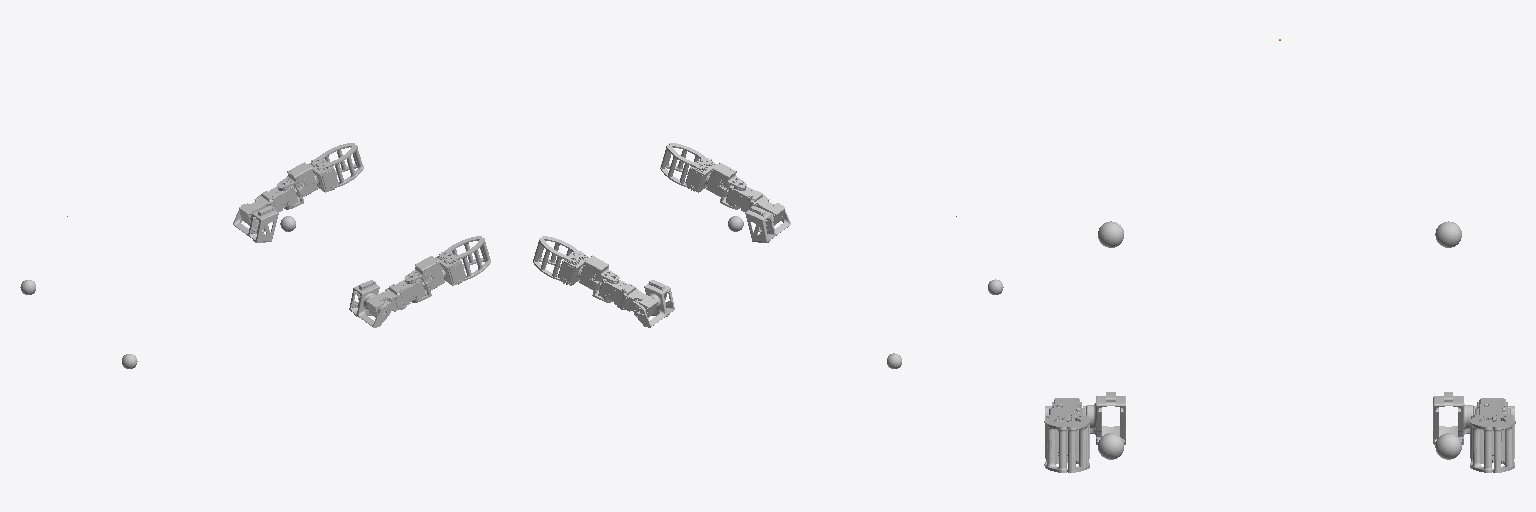
--- Facts derived from the render (not from the file) ---
3 views of the same robot in one strip: view 1: azimuth 30°, elevation 25°; view 2: azimuth 150°, elevation 25°; view 3: azimuth 270°, elevation 25° (orthographic).
Robot: go1 — 38 links, 37 joints (18 revolute, 19 fixed); root link base; default pose: all joints at 0 but 4 set to mid-range because 0 is outside their limits (1_FR_calf_joint = -1.85, 2_FL_calf_joint = -1.85, 3_RR_calf_joint = -1.85, 4_RL_calf_joint = -1.85).
Links seen in each view (by area): view 1: 2_FL_eef, 1_FR_eef, 1_FR_link_2, 2_FL_link_2, 2_FL_link_1, 1_FR_link_1, 1_FR_link_3, 2_FL_link_3; view 2: 1_FR_eef, 2_FL_eef, 2_FL_link_2, 1_FR_link_2, 1_FR_link_1, 2_FL_link_1, 2_FL_link_3, 1_FR_link_3; view 3: 1_FR_eef, 2_FL_eef, 2_FL_link_1, 1_FR_link_1, 1_FR_foot, 2_FL_foot, 4_RL_foot, 3_RR_foot.
Boxes of the visible links, x1=… form: 2_FL_eef: x1=307, y1=143, x2=363, y2=192; 1_FR_eef: x1=435, y1=236, x2=490, y2=285; 1_FR_link_2: x1=366, y1=277, x2=425, y2=317; 2_FL_link_2: x1=239, y1=184, x2=297, y2=225; 2_FL_link_1: x1=233, y1=204, x2=278, y2=242; 1_FR_link_1: x1=349, y1=280, x2=390, y2=327; 1_FR_link_3: x1=404, y1=256, x2=444, y2=302; 2_FL_link_3: x1=277, y1=162, x2=317, y2=209; 1_FR_eef: x1=660, y1=143, x2=716, y2=192; 2_FL_eef: x1=533, y1=236, x2=588, y2=285; 2_FL_link_2: x1=598, y1=277, x2=657, y2=317; 1_FR_link_2: x1=726, y1=184, x2=784, y2=225; 1_FR_link_1: x1=745, y1=203, x2=790, y2=242; 2_FL_link_1: x1=633, y1=280, x2=674, y2=327; 2_FL_link_3: x1=579, y1=255, x2=619, y2=302; 1_FR_link_3: x1=706, y1=162, x2=746, y2=209; 1_FR_eef: x1=1044, y1=415, x2=1089, y2=472; 2_FL_eef: x1=1470, y1=415, x2=1515, y2=472; 2_FL_link_1: x1=1433, y1=392, x2=1514, y2=444; 1_FR_link_1: x1=1045, y1=392, x2=1125, y2=444; 1_FR_foot: x1=1098, y1=433, x2=1123, y2=459; 2_FL_foot: x1=1435, y1=433, x2=1461, y2=459; 4_RL_foot: x1=1435, y1=221, x2=1461, y2=247; 3_RR_foot: x1=1098, y1=221, x2=1123, y2=247.
Bounding box of the posed robot: 0.5195 × 0.3537 × 0.1705 m (x, y, z).
Meshes: 13 distinct files referenced, 8 mesh visuals loaded (8 binary STL); not drawn: 13 (reference not matched to a file when rendering).

The robot description file, URDF, robot "go1":
<?xml version="1.0" ?>
<!-- =================================================================================== -->
<!-- |    This document was autogenerated by xacro from robot.xacro                    | -->
<!-- |    EDITING THIS FILE BY HAND IS NOT RECOMMENDED                                 | -->
<!-- =================================================================================== -->
<robot name="go1">
  <material name="black">
    <color rgba="0.0 0.0 0.0 1.0"/>
  </material>
  <material name="blue">
    <color rgba="0.0 0.0 0.8 1.0"/>
  </material>
  <material name="green">
    <color rgba="0.0 0.8 0.0 1.0"/>
  </material>
  <material name="grey">
    <color rgba="0.55 0.55 0.55 1.0"/>
  </material>
  <material name="silver">
    <color rgba="0.7 0.7 0.7 1"/>
  </material>
  <material name="orange">
    <color rgba="1.0 0.4235294117647059 0.0392156862745098 1.0"/>
  </material>
  <material name="brown">
    <color rgba="0.8705882352941177 0.8117647058823529 0.7647058823529411 1.0"/>
  </material>
  <material name="red">
    <color rgba="0.7 0.2 0.2 1.0"/>
  </material>
  <material name="white">
    <color rgba="1.0 1.0 1.0 1.0"/>
  </material>

  <material name="body_color">
    <color rgba="0.8 0.8 0.8 1.0"/>
  </material>
  <material name="hip_color">
    <color rgba="0.65 0.65 0.65 1.0"/>
  </material>
  <material name="thigh_color">
    <color rgba="0.5 0.5 0.5 1.0"/>
  </material>
  <material name="calf_color">
    <color rgba="0.5 0.5 0.5 1.0"/>
  </material>
  <material name="foot_color">
    <color rgba="0.8 0.8 0.8 1.0"/>
  </material>
  <material name="gripper_color">
    <color rgba="0.8 0.8 0.8 1.0"/>
  </material>

  <link name="base">
    <visual>
      <origin rpy="0 0 0" xyz="0 0 0"/>
      <geometry>
        <box size="0.001 0.001 0.001"/>
      </geometry>
    </visual>
  </link>
  <joint name="floating_base" type="fixed">
    <origin rpy="0 0 0" xyz="0 0 0"/>
    <parent link="base"/>
    <child link="trunk"/>
  </joint>
  <link name="trunk">
    <visual>
      <origin rpy="0 0 0" xyz="0 0 0"/>
      <geometry>
        <mesh filename="../meshes/trunk.stl" scale="1 1 1"/>
      </geometry>
      <material name="body_color"/>
    </visual>
    <collision>
      <origin rpy="0 0 0" xyz="0 0 0"/>
      <geometry>
        <box size="0.3762 0.0935 0.114"/>
      </geometry>
    </collision>
    <inertial>
      <origin rpy="0 0 0" xyz="0.0223 0.002 -0.0005"/>
      <mass value="5.204"/>
      <inertia ixx="0.0168128557" ixy="-0.0002296769" ixz="-0.0002945293" iyy="0.063009565" iyz="-4.18731e-05" izz="0.0716547275"/>
    </inertial>
  </link>
  
  <joint name="1_FR_hip_joint" type="revolute">
    <origin rpy="0 0 0" xyz="0.1881 -0.04675 0"/>
    <parent link="trunk"/>
    <child link="1_FR_hip"/>
    <axis xyz="1 0 0"/>
    <dynamics damping="0.0" friction="0.0"/>
    <limit effort="23.7" lower="-0.863" upper="0.863" velocity="30.1"/>
  </joint>
  <joint name="1_FR_hip_rotor_joint" type="fixed">
    <origin rpy="0 0 0" xyz="0.11215 -0.04675 0"/>
    <parent link="trunk"/>
    <child link="1_FR_hip_rotor"/>
  </joint>
  <link name="1_FR_hip">
    <visual>
      <origin rpy="3.141592653589793 0 0" xyz="0 0 0"/>
      <geometry>
        <mesh filename="../meshes/hip.stl" scale="1 1 1"/>
      </geometry>
      <material name="hip_color"/>
    </visual>
    <collision>
      <origin rpy="1.5707963267948966 0 0" xyz="0 -0.05 0"/>
      <geometry>
        <cylinder length="0.01" radius="0.046"/>
      </geometry>
    </collision>
    <inertial>
      <origin rpy="0 0 0" xyz="-0.005657 0.008752 -0.000102"/>
      <mass value="0.591"/>
      <inertia ixx="0.000334008405" ixy="1.0826066e-05" ixz="1.290732e-06" iyy="0.000619101213" iyz="-1.643194e-06" izz="0.00040057614"/>
    </inertial>
  </link>
  <link name="1_FR_hip_rotor">
    <!-- <collision>
      <origin rpy="0 1.5707963267948966 0" xyz="0 0 0"/>
      <geometry>
        <cylinder length="0.02" radius="0.035"/>
      </geometry>
    </collision> -->
    <inertial>
      <origin rpy="0 0 0" xyz="0.0 0.0 0.0"/>
      <mass value="0.089"/>
      <inertia ixx="0.000111842" ixy="0.0" ixz="0.0" iyy="5.9647e-05" iyz="0.0" izz="5.9647e-05"/>
    </inertial>
  </link>
  <joint name="1_FR_thigh_joint" type="revolute">
    <origin rpy="0 0 0" xyz="0 -0.08 0"/>
    <parent link="1_FR_hip"/>
    <child link="1_FR_thigh"/>
    <axis xyz="0 1 0"/>
    <dynamics damping="0.0" friction="0.0"/>
    <limit effort="23.7" lower="-0.686" upper="4.501" velocity="30.1"/>
  </joint>
  <joint name="1_FR_thigh_rotor_joint" type="fixed">
    <origin rpy="0 0 0" xyz="0.0 0.00015 0"/>
    <parent link="1_FR_hip"/>
    <child link="1_FR_thigh_rotor"/>
  </joint>
  <link name="1_FR_thigh">
    <visual>
      <origin rpy="0 0 0" xyz="0 0 0"/>
      <geometry>
        <mesh filename="../meshes/thigh_mirror.stl" scale="1 1 1"/>
      </geometry>
      <material name="thigh_color"/>
    </visual>
    <collision>
      <origin rpy="0 1.5707963267948966 0" xyz="0 0 -0.1065"/>
      <geometry>
        <box size="0.213 0.0245 0.034"/>
      </geometry>
    </collision>
    <inertial>
      <origin rpy="0 0 0" xyz="-0.003342 0.018054 -0.033451"/>
      <mass value="0.92"/>
      <inertia ixx="0.004431760472" ixy="-5.7496807e-05" ixz="-0.000218457134" iyy="0.004485671726" iyz="-0.000572001265" izz="0.000740309489"/>
    </inertial>
  </link>
  <link name="1_FR_thigh_rotor">
    <!-- <collision>
      <origin rpy="1.5707963267948966 0 0" xyz="0 0 0"/>
      <geometry>
        <cylinder length="0.02" radius="0.035"/>
      </geometry>
    </collision> -->
    <inertial>
      <origin rpy="0 0 0" xyz="0.0 0.0 0.0"/>
      <mass value="0.089"/>
      <inertia ixx="5.9647e-05" ixy="0.0" ixz="0.0" iyy="0.000111842" iyz="0.0" izz="5.9647e-05"/>
    </inertial>
  </link>
  <joint name="1_FR_calf_joint" type="revolute">
    <origin rpy="0 0 0" xyz="0 0 -0.213"/>
    <parent link="1_FR_thigh"/>
    <child link="1_FR_calf"/>
    <axis xyz="0 1 0"/>
    <dynamics damping="0.0" friction="0.0"/>
    <limit effort="35.55" lower="-2.818" upper="-0.888" velocity="20.06"/>
  </joint>
  <joint name="1_FR_calf_rotor_joint" type="fixed">
    <origin rpy="0 0 0" xyz="0.0 0.03235 0"/>
    <parent link="1_FR_thigh"/>
    <child link="1_FR_calf_rotor"/>
  </joint>
  <link name="1_FR_calf">
    <visual>
      <origin rpy="0 0 0" xyz="0 0 0"/>
      <geometry>
        <mesh filename="../meshes/calf.stl" scale="1 1 1"/>
      </geometry>
      <material name="calf_color"/>
    </visual>
    <collision>
      <origin rpy="0 1.5707963267948966 0" xyz="0 0 -0.1065"/>
      <geometry>
        <box size="0.213 0.016 0.016"/>
      </geometry>
    </collision>
    <inertial>
      <origin rpy="0 0 0" xyz="0.006197 0.001408 -0.116695"/>
      <mass value="0.135862"/>
      <inertia ixx="0.001088793059" ixy="-2.55679e-07" ixz="7.117814e-06" iyy="0.001100428748" iyz="2.077264e-06" izz="2.4787446e-05"/>
    </inertial>
  </link>
  <link name="1_FR_calf_rotor">
    <!-- <collision>
      <origin rpy="1.5707963267948966 0 0" xyz="0 0 0"/>
      <geometry>
        <cylinder length="0.02" radius="0.035"/>
      </geometry>
    </collision> -->
    <inertial>
      <origin rpy="0 0 0" xyz="0.0 0.0 0.0"/>
      <mass value="0.089"/>
      <inertia ixx="5.9647e-05" ixy="0.0" ixz="0.0" iyy="0.000111842" iyz="0.0" izz="5.9647e-05"/>
    </inertial>
  </link>
  <joint name="1_FR_foot_fixed" type="fixed" dont_collapse="true">
    <origin rpy="0 0 0" xyz="0 0 -0.213"/>
    <parent link="1_FR_calf"/>
    <child link="1_FR_foot"/>
  </joint>
  <link name="1_FR_foot">
    <visual>
      <origin rpy="0 0 0" xyz="0 0 0"/>
      <geometry>
        <sphere radius="0.01"/>
      </geometry>
      <material name="foot_color"/>
    </visual>
    <collision>
      <origin rpy="0 0 0" xyz="0 0 0"/>
      <geometry>
        <sphere radius="0.02"/>
      </geometry>
    </collision>
    <inertial>
      <mass value="0.06"/>
      <inertia ixx="9.600000000000001e-06" ixy="0.0" ixz="0.0" iyy="9.600000000000001e-06" iyz="0.0" izz="9.600000000000001e-06"/>
    </inertial>
  </link>



  <link
    name="1_FR_link_1">
    <inertial>
      <origin
        xyz="-0.00219773126121644 0.0243160464563324 0.00397191022683929"
        rpy="0 0 0" />
      <mass
        value="0.00863416475105106" />
      <inertia
        ixx="2.1722842345942E-06"
        ixy="-2.15046061302735E-07"
        ixz="6.45826726963068E-07"
        iyy="2.00975373063071E-06"
        iyz="2.41958602625338E-07"
        izz="2.47207531933185E-06" />
    </inertial>
    <visual>
      <origin
        xyz="0 0 0"
        rpy="0 0 0" />
      <geometry>
        <mesh
          filename="../meshes/1_FR_link_1.STL" />
      </geometry>
      <material name="gripper_color"/>
    </visual>
    <collision>
      <origin
        xyz="0 0 0"
        rpy="0 0 0" />
      <geometry>
        <mesh
          filename="../meshes/1_FR_link_1.STL" />
      </geometry>
    </collision>
  </link>
  <joint
    name="1_FR_joint_fixed"
    type="fixed">
    <origin
      xyz="0.017662 -0.033 -0.182"
      rpy="0 0 0" />
    <parent
      link="1_FR_calf" />
    <child
      link="1_FR_link_1" />
    <axis
      xyz="0 0 0" />
  </joint>
  <link
    name="1_FR_link_2">
    <inertial>
      <origin
        xyz="9.83364314332928E-05 9.83364314332755E-05 -0.026549999586773"
        rpy="0 0 0" />
      <mass
        value="0.0344083946296199" />
      <inertia
        ixx="3.66188334529279E-06"
        ixy="1.68068961449228E-10"
        ixz="1.28134785077151E-09"
        iyy="3.6618838920329E-06"
        iyz="-1.2813478507716E-09"
        izz="1.70194500825612E-06" />
    </inertial>
    <visual>
      <origin
        xyz="0 0 0"
        rpy="0 0 0" />
      <geometry>
        <mesh
          filename="../meshes/1_FR_link_2.STL" />
      </geometry>
      <material name="gripper_color"/>
    </visual>
    <collision>
      <origin
        xyz="0 0 0"
        rpy="0 0 0" />
      <geometry>
        <mesh
          filename="../meshes/1_FR_link_2.STL" />
      </geometry>
    </collision>
  </link>
  <joint
    name="1_FR_joint_1"
    type="revolute">
    <origin
      xyz="0 0 0"
      rpy="0 0 0" />
    <parent
      link="1_FR_link_1" />
    <child
      link="1_FR_link_2" />
    <axis
      xyz="0 1 0" />
    <limit
      lower="-3.19"
      upper="1.74"
      effort="1"
      velocity="1" />
  </joint>
  <link
    name="1_FR_link_3">
    <inertial>
      <origin
        xyz="0.0064018098359042 -3.90017676212689E-06 -0.0255809285503741"
        rpy="0 0 0" />
      <mass
        value="0.0183834737966981" />
      <inertia
        ixx="8.82753845612401E-07"
        ixy="1.37887213674392E-09"
        ixz="3.41133990128341E-08"
        iyy="2.36367097748995E-06"
        iyz="-8.40728593179785E-11"
        izz="2.56460057046731E-06" />
    </inertial>
    <visual>
      <origin
        xyz="0 0 0"
        rpy="0 0 0" />
      <geometry>
        <mesh
          filename="../meshes/1_FR_link_3.STL" />
      </geometry>
      <material name="gripper_color"/>
    </visual>
    <collision>
      <origin
        xyz="0 0 0"
        rpy="0 0 0" />
      <geometry>
        <mesh
          filename="../meshes/1_FR_link_3.STL" />
      </geometry>
    </collision>
  </link>
  <joint
    name="1_FR_joint_2"
    type="revolute">
    <origin
      xyz="0 0 -0.0531"
      rpy="0 0 0" />
    <parent
      link="1_FR_link_2" />
    <child
      link="1_FR_link_3" />
    <axis
      xyz="1 0 0" />
    <limit
      lower="-2.4"
      upper="0.6"
      effort="1"
      velocity="1" />
  </joint>
  <link
    name="1_FR_eef">
    <inertial>
      <origin
        xyz="0.000104882475929782 0.000138555138779549 0.023929014785628"
        rpy="0 0 0" />
      <mass
        value="0.0278259377601935" />
      <inertia
        ixx="4.89357650784539E-06"
        ixy="-1.02471635077391E-09"
        ixz="-1.81801095874302E-07"
        iyy="4.41355535993267E-06"
        iyz="7.72057020217287E-09"
        izz="3.34104296413481E-06" />
    </inertial>
    <visual>
      <origin
        xyz="0 0 0"
        rpy="0 0 0" />
      <geometry>
        <mesh
          filename="../meshes/1_FR_eef.STL" />
      </geometry>
      <material name="gripper_color"/>
    </visual>
    <collision>
      <origin
        xyz="0 0 0"
        rpy="0 0 0" />
      <geometry>
        <mesh
          filename="../meshes/1_FR_eef.STL" />
      </geometry>
    </collision>
  </link>
  <joint
    name="1_FR_joint_3"
    type="revolute">
    <origin
      xyz="0 0 -0.086"
      rpy="0 0 0" />
    <parent
      link="1_FR_link_3" />
    <child
      link="1_FR_eef" />
    <axis
      xyz="0 0 1" />
    <limit
      lower="-3.15"
      upper="3.15"
      effort="1"
      velocity="1" />
  </joint>







  <joint name="2_FL_hip_joint" type="revolute">
    <origin rpy="0 0 0" xyz="0.1881 0.04675 0"/>
    <parent link="trunk"/>
    <child link="2_FL_hip"/>
    <axis xyz="1 0 0"/>
    <dynamics damping="0.0" friction="0.0"/>
    <limit effort="23.7" lower="-0.863" upper="0.863" velocity="30.1"/>
  </joint>
  <joint name="2_FL_hip_rotor_joint" type="fixed">`
    <origin rpy="0 0 0" xyz="0.11215 0.04675 0"/>
    <parent link="trunk"/>
    <child link="2_FL_hip_rotor"/>
  </joint>
  <link name="2_FL_hip">
    <visual>
      <origin rpy="0 0 0" xyz="0 0 0"/>
      <geometry>
        <mesh filename="../meshes/hip.stl" scale="1 1 1"/>
      </geometry>
      <material name="hip_color"/>
    </visual>
    <collision>
      <origin rpy="1.5707963267948966 0 0" xyz="0 0.05 0"/>
      <geometry>
        <cylinder length="0.01" radius="0.046"/>
      </geometry>
    </collision>
    <inertial>
      <origin rpy="0 0 0" xyz="-0.005657 -0.008752 -0.000102"/>
      <mass value="0.591"/>
      <inertia ixx="0.000334008405" ixy="-1.0826066e-05" ixz="1.290732e-06" iyy="0.000619101213" iyz="1.643194e-06" izz="0.00040057614"/>
    </inertial>
  </link>
  <link name="2_FL_hip_rotor">
    <!-- <collision>
      <origin rpy="0 1.5707963267948966 0" xyz="0 0 0"/>
      <geometry>
        <cylinder length="0.02" radius="0.035"/>
      </geometry>
    </collision> -->
    <inertial>
      <origin rpy="0 0 0" xyz="0.0 0.0 0.0"/>
      <mass value="0.089"/>
      <inertia ixx="0.000111842" ixy="0.0" ixz="0.0" iyy="5.9647e-05" iyz="0.0" izz="5.9647e-05"/>
    </inertial>
  </link>
  <joint name="2_FL_thigh_joint" type="revolute">
    <origin rpy="0 0 0" xyz="0 0.08 0"/>
    <parent link="2_FL_hip"/>
    <child link="2_FL_thigh"/>
    <axis xyz="0 1 0"/>
    <dynamics damping="0.0" friction="0.0"/>
    <limit effort="23.7" lower="-0.686" upper="4.501" velocity="30.1"/>
  </joint>
  <joint name="2_FL_thigh_rotor_joint" type="fixed">
    <origin rpy="0 0 0" xyz="0.0 -0.00015 0"/>
    <parent link="2_FL_hip"/>
    <child link="2_FL_thigh_rotor"/>
  </joint>
  <link name="2_FL_thigh">
    <visual>
      <origin rpy="0 0 0" xyz="0 0 0"/>
      <geometry>
        <mesh filename="../meshes/thigh.stl" scale="1 1 1"/>
      </geometry>
      <material name="thigh_color"/>
    </visual>
    <collision>
      <origin rpy="0 1.5707963267948966 0" xyz="0 0 -0.1065"/>
      <geometry>
        <box size="0.213 0.0245 0.034"/>
      </geometry>
    </collision>
    <inertial>
      <origin rpy="0 0 0" xyz="-0.003342 -0.018054 -0.033451"/>
      <mass value="0.92"/>
      <inertia ixx="0.004431760472" ixy="5.7496807e-05" ixz="-0.000218457134" iyy="0.004485671726" iyz="0.000572001265" izz="0.000740309489"/>
    </inertial>
  </link>
  <link name="2_FL_thigh_rotor">
    <!-- <collision>
      <origin rpy="1.5707963267948966 0 0" xyz="0 0 0"/>
      <geometry>
        <cylinder length="0.02" radius="0.035"/>
      </geometry>
    </collision> -->
    <inertial>
      <origin rpy="0 0 0" xyz="0.0 0.0 0.0"/>
      <mass value="0.089"/>
      <inertia ixx="5.9647e-05" ixy="0.0" ixz="0.0" iyy="0.000111842" iyz="0.0" izz="5.9647e-05"/>
    </inertial>
  </link>
  <joint name="2_FL_calf_joint" type="revolute">
    <origin rpy="0 0 0" xyz="0 0 -0.213"/>
    <parent link="2_FL_thigh"/>
    <child link="2_FL_calf"/>
    <axis xyz="0 1 0"/>
    <dynamics damping="0.0" friction="0.0"/>
    <limit effort="35.55" lower="-2.818" upper="-0.888" velocity="20.06"/>
  </joint>
  <joint name="2_FL_calf_rotor_joint" type="fixed">
    <origin rpy="0 0 0" xyz="0.0 -0.03235 0"/>
    <parent link="2_FL_thigh"/>
    <child link="2_FL_calf_rotor"/>
  </joint>
  <link name="2_FL_calf">
    <visual>
      <origin rpy="0 0 0" xyz="0 0 0"/>
      <geometry>
        <mesh filename="../meshes/calf.stl" scale="1 1 1"/>
      </geometry>
      <material name="calf_color"/>
    </visual>
    <collision>
      <origin rpy="0 1.5707963267948966 0" xyz="0 0 -0.1065"/>
      <geometry>
        <box size="0.213 0.016 0.016"/>
      </geometry>
    </collision>
    <inertial>
      <origin rpy="0 0 0" xyz="0.006197 0.001408 -0.116695"/>
      <mass value="0.135862"/>
      <inertia ixx="0.001088793059" ixy="-2.55679e-07" ixz="7.117814e-06" iyy="0.001100428748" iyz="2.077264e-06" izz="2.4787446e-05"/>
    </inertial>
  </link>
  <link name="2_FL_calf_rotor">
    <!-- <collision>
      <origin rpy="1.5707963267948966 0 0" xyz="0 0 0"/>
      <geometry>
        <cylinder length="0.02" radius="0.035"/>
      </geometry>
    </collision> -->
    <inertial>
      <origin rpy="0 0 0" xyz="0.0 0.0 0.0"/>
      <mass value="0.089"/>
      <inertia ixx="5.9647e-05" ixy="0.0" ixz="0.0" iyy="0.000111842" iyz="0.0" izz="5.9647e-05"/>
    </inertial>
  </link>
  <joint name="2_FL_foot_fixed" type="fixed" dont_collapse="true">
    <origin rpy="0 0 0" xyz="0 0 -0.213"/>
    <parent link="2_FL_calf"/>
    <child link="2_FL_foot"/>
  </joint>
  <link name="2_FL_foot">
    <visual>
      <origin rpy="0 0 0" xyz="0 0 0"/>
      <geometry>
        <sphere radius="0.01"/>
      </geometry>
      <material name="foot_color"/>
    </visual>
    <collision>
      <origin rpy="0 0 0" xyz="0 0 0"/>
      <geometry>
        <sphere radius="0.02"/>
      </geometry>
    </collision>
    <inertial>
      <mass value="0.06"/>
      <inertia ixx="9.600000000000001e-06" ixy="0.0" ixz="0.0" iyy="9.600000000000001e-06" iyz="0.0" izz="9.600000000000001e-06"/>
    </inertial>
  </link>
  



  <link
    name="2_FL_link_1">
    <inertial>
      <origin
        xyz="-0.00219775969885004 -0.0243160967977738 0.00397188663301826"
        rpy="0 0 0" />
      <mass
        value="0.0086341682803232" />
      <inertia
        ixx="2.17229556670787E-06"
        ixy="2.15048586239943E-07"
        ixz="6.45827134180044E-07"
        iyy="2.00976173700504E-06"
        iyz="-2.41962868208989E-07"
        izz="2.47208104511084E-06" />
    </inertial>
    <visual>
      <origin
        xyz="0 0 0"
        rpy="0 0 0" />
      <geometry>
        <mesh
          filename="../meshes/2_FL_link_1.STL" />
      </geometry>
      <material name="gripper_color"/>
    </visual>
    <collision>
      <origin
        xyz="0 0 0"
        rpy="0 0 0" />
      <geometry>
        <mesh
          filename="../meshes/2_FL_link_1.STL" />
      </geometry>
    </collision>
  </link>
  <joint
    name="2_FL_joint_fixed"
    type="fixed">
    <origin
      xyz="0.017662 0.033 -0.182"
      rpy="0 0 0" />
    <parent
      link="2_FL_calf" />
    <child
      link="2_FL_link_1" />
    <axis
      xyz="0 0 0" />
  </joint>
  <link
    name="2_FL_link_2">
    <inertial>
      <origin
        xyz="0.000102501835334282 -0.000102501835334216 -0.026549999586773"
        rpy="0 0 0" />
      <mass
        value="0.0344083946296199" />
      <inertia
        ixx="3.66188334529278E-06"
        ixy="1.68068961449388E-10"
        ixz="4.03851008370406E-09"
        iyy="3.6618838920329E-06"
        iyz="4.03851008370605E-09"
        izz="1.70194500825612E-06" />
    </inertial>
    <visual>
      <origin
        xyz="0 0 0"
        rpy="0 0 0" />
      <geometry>
        <mesh
          filename="../meshes/2_FL_link_2.STL" />
      </geometry>
      <material name="gripper_color"/>
    </visual>
    <collision>
      <origin
        xyz="0 0 0"
        rpy="0 0 0" />
      <geometry>
        <mesh
          filename="../meshes/2_FL_link_2.STL" />
      </geometry>
    </collision>
  </link>
  <joint
    name="2_FL_joint_1"
    type="revolute">
    <origin
      xyz="0 0 0"
      rpy="0 0 0" />
    <parent
      link="2_FL_link_1" />
    <child
      link="2_FL_link_2" />
    <axis
      xyz="0 1 0" />
    <limit
      lower="-3.19"
      upper="1.74"
      effort="1"
      velocity="1" />
  </joint>
  <link
    name="2_FL_link_3">
    <inertial>
      <origin
        xyz="0.00640180983590409 -3.90017676213383E-06 -0.0255809285503741"
        rpy="0 0 0" />
      <mass
        value="0.0183834737966981" />
      <inertia
        ixx="8.827538456124E-07"
        ixy="1.37887213674302E-09"
        ixz="3.41133990128335E-08"
        iyy="2.36367097748996E-06"
        iyz="-8.40728593177935E-11"
        izz="2.56460057046732E-06" />
    </inertial>
    <visual>
      <origin
        xyz="0 0 0"
        rpy="0 0 0" />
      <geometry>
        <mesh
          filename="../meshes/2_FL_link_3.STL" />
      </geometry>
      <material name="gripper_color"/>
    </visual>
    <collision>
      <origin
        xyz="0 0 0"
        rpy="0 0 0" />
      <geometry>
        <mesh
          filename="../meshes/2_FL_link_3.STL" />
      </geometry>
    </collision>
  </link>
  <joint
    name="2_FL_joint_2"
    type="revolute">
    <origin
      xyz="0 0 -0.0531"
      rpy="0 0 0" />
    <parent
      link="2_FL_link_2" />
    <child
      link="2_FL_link_3" />
    <axis
      xyz="1 0 0" />
    <limit
      lower="-0.6"
      upper="2.4"
      effort="1"
      velocity="1" />
  </joint>
  <link
    name="2_FL_eef">
    <inertial>
      <origin
        xyz="0.00010497138024106 0.000138672538128368 0.0239145474490836"
        rpy="0 0 0" />
      <mass
        value="0.0278023758627792" />
      <inertia
        ixx="4.89310283023738E-06"
        ixy="-1.02469769104025E-09"
        ixz="-1.81800973831625E-07"
        iyy="4.41308154517087E-06"
        iyz="7.72058499079955E-09"
        izz="3.34011139187202E-06" />
    </inertial>
    <visual>
      <origin
        xyz="0 0 0"
        rpy="0 0 0" />
      <geometry>
        <mesh
          filename="../meshes/2_FL_eef.STL" />
      </geometry>
      <material name="gripper_color"/>
    </visual>
    <collision>
      <origin
        xyz="0 0 0"
        rpy="0 0 0" />
      <geometry>
        <mesh
          filename="../meshes/2_FL_eef.STL" />
      </geometry>
    </collision>
  </link>
  <joint
    name="2_FL_joint_3"
    type="revolute">
    <origin
      xyz="0 0 -0.086"
      rpy="0 0 0" />
    <parent
      link="2_FL_link_3" />
    <child
      link="2_FL_eef" />
    <axis
      xyz="0 0 1" />
    <limit
      lower="-3.15"
      upper="3.15"
      effort="1"
      velocity="1" />
  </joint>




  <joint name="3_RR_hip_joint" type="revolute">
    <origin rpy="0 0 0" xyz="-0.1881 -0.04675 0"/>
    <parent link="trunk"/>
    <child link="3_RR_hip"/>
    <axis xyz="1 0 0"/>
    <dynamics damping="0.0" friction="0.0"/>
    <limit effort="23.7" lower="-0.863" upper="0.863" velocity="30.1"/>
  </joint>
  <joint name="3_RR_hip_rotor_joint" type="fixed">
    <origin rpy="0 0 0" xyz="-0.11215 -0.04675 0"/>
    <parent link="trunk"/>
    <child link="3_RR_hip_rotor"/>
  </joint>
  <link name="3_RR_hip">
    <visual>
      <origin rpy="3.141592653589793 3.141592653589793 0" xyz="0 0 0"/>
      <geometry>
        <mesh filename="../meshes/hip.stl" scale="1 1 1"/>
      </geometry>
      <material name="hip_color"/>
    </visual>
    <collision>
      <origin rpy="1.5707963267948966 0 0" xyz="0 -0.08 0"/>
      <geometry>
        <cylinder length="0.04" radius="0.046"/>
      </geometry>
    </collision>
    <inertial>
      <origin rpy="0 0 0" xyz="0.005657 0.008752 -0.000102"/>
      <mass value="0.591"/>
      <inertia ixx="0.000334008405" ixy="-1.0826066e-05" ixz="-1.290732e-06" iyy="0.000619101213" iyz="-1.643194e-06" izz="0.00040057614"/>
    </inertial>
  </link>
  <link name="3_RR_hip_rotor">
    <!-- <collision>
      <origin rpy="0 1.5707963267948966 0" xyz="0 0 0"/>
      <geometry>
        <cylinder length="0.02" radius="0.035"/>
      </geometry>
    </collision> -->
    <inertial>
      <origin rpy="0 0 0" xyz="0.0 0.0 0.0"/>
      <mass value="0.089"/>
      <inertia ixx="0.000111842" ixy="0.0" ixz="0.0" iyy="5.9647e-05" iyz="0.0" izz="5.9647e-05"/>
    </inertial>
  </link>
  <joint name="3_RR_thigh_joint" type="revolute">
    <origin rpy="0 0 0" xyz="0 -0.08 0"/>
    <parent link="3_RR_hip"/>
    <child link="3_RR_thigh"/>
    <axis xyz="0 1 0"/>
    <dynamics damping="0.0" friction="0.0"/>
    <limit effort="23.7" lower="-0.686" upper="4.501" velocity="30.1"/>
  </joint>
  <joint name="3_RR_thigh_rotor_joint" type="fixed">
    <origin rpy="0 0 0" xyz="0.0 0.00015 0"/>
    <parent link="3_RR_hip"/>
    <child link="3_RR_thigh_rotor"/>
  </joint>
  <link name="3_RR_thigh">
    <visual>
      <origin rpy="0 0 0" xyz="0 0 0"/>
      <geometry>
        <mesh filename="../meshes/thigh_mirror.stl" scale="1 1 1"/>
      </geometry>
      <material name="thigh_color"/>
    </visual>
    <collision>
      <origin rpy="0 1.5707963267948966 0" xyz="0 0 -0.1065"/>
      <geometry>
        <box size="0.213 0.0245 0.034"/>
      </geometry>
    </collision>
    <inertial>
      <origin rpy="0 0 0" xyz="-0.003342 0.018054 -0.033451"/>
      <mass value="0.92"/>
      <inertia ixx="0.004431760472" ixy="-5.7496807e-05" ixz="-0.000218457134" iyy="0.004485671726" iyz="-0.000572001265" izz="0.000740309489"/>
    </inertial>
  </link>
  <link name="3_RR_thigh_rotor">
    <!-- <collision>
      <origin rpy="1.5707963267948966 0 0" xyz="0 0 0"/>
      <geometry>
        <cylinder length="0.02" radius="0.035"/>
      </geometry>
    </collision> -->
    <inertial>
      <origin rpy="0 0 0" xyz="0.0 0.0 0.0"/>
      <mass value="0.089"/>
      <inertia ixx="5.9647e-05" ixy="0.0" ixz="0.0" iyy="0.000111842" iyz="0.0" izz="5.9647e-05"/>
    </inertial>
  </link>
  <joint name="3_RR_calf_joint" type="revolute">
    <origin rpy="0 0 0" xyz="0 0 -0.213"/>
    <parent link="3_RR_thigh"/>
    <child link="3_RR_calf"/>
    <axis xyz="0 1 0"/>
    <dynamics damping="0.0" friction="0.0"/>
    <limit effort="35.55" lower="-2.818" upper="-0.888" velocity="20.06"/>
  </joint>
  <joint name="3_RR_calf_rotor_joint" type="fixed">
    <origin rpy="0 0 0" xyz="0.0 0.03235 0"/>
    <parent link="3_RR_thigh"/>
    <child link="3_RR_calf_rotor"/>
  </joint>
  <link name="3_RR_calf">
    <visual>
      <origin rpy="0 0 0" xyz="0 0 0"/>
      <geometry>
        <mesh filename="../meshes/calf.stl" scale="1 1 1"/>
      </geometry>
      <material name="calf_color"/>
    </visual>
    <collision>
      <origin rpy="0 1.5707963267948966 0" xyz="0 0 -0.1065"/>
      <geometry>
        <box size="0.213 0.016 0.016"/>
      </geometry>
    </collision>
    <inertial>
      <origin rpy="0 0 0" xyz="0.006197 0.001408 -0.116695"/>
      <mass value="0.135862"/>
      <inertia ixx="0.001088793059" ixy="-2.55679e-07" ixz="7.117814e-06" iyy="0.001100428748" iyz="2.077264e-06" izz="2.4787446e-05"/>
    </inertial>
  </link>
  <link name="3_RR_calf_rotor">
    <!-- <collision>
      <origin rpy="1.5707963267948966 0 0" xyz="0 0 0"/>
      <geometry>
        <cylinder length="0.02" radius="0.035"/>
      </geometry>
    </collision> -->
    <inertial>
      <origin rpy="0 0 0" xyz="0.0 0.0 0.0"/>
      <mass value="0.089"/>
      <inertia ixx="5.9647e-05" ixy="0.0" ixz="0.0" iyy="0.000111842" iyz="0.0" izz="5.9647e-05"/>
    </inertial>
  </link>
  <joint name="3_RR_foot_fixed" type="fixed" dont_collapse="true">
    <origin rpy="0 0 0" xyz="0 0 -0.213"/>
    <parent link="3_RR_calf"/>
    <child link="3_RR_foot"/>
  </joint>
  <link name="3_RR_foot">
    <visual>
      <origin rpy="0 0 0" xyz="0 0 0"/>
      <geometry>
        <sphere radius="0.01"/>
      </geometry>
      <material name="foot_color"/>
    </visual>
    <collision>
      <origin rpy="0 0 0" xyz="0 0 0"/>
      <geometry>
        <sphere radius="0.02"/>
      </geometry>
    </collision>
    <inertial>
      <mass value="0.06"/>
      <inertia ixx="9.600000000000001e-06" ixy="0.0" ixz="0.0" iyy="9.600000000000001e-06" iyz="0.0" izz="9.600000000000001e-06"/>
    </inertial>
  </link>

  <joint name="4_RL_hip_joint" type="revolute">
    <origin rpy="0 0 0" xyz="-0.1881 0.04675 0"/>
    <parent link="trunk"/>
    <child link="4_RL_hip"/>
    <axis xyz="1 0 0"/>
    <dynamics damping="0.0" friction="0.0"/>
    <limit effort="23.7" lower="-0.863" upper="0.863" velocity="30.1"/>
  </joint>
  <joint name="4_RL_hip_rotor_joint" type="fixed">
    <origin rpy="0 0 0" xyz="-0.11215 0.04675 0"/>
    <parent link="trunk"/>
    <child link="4_RL_hip_rotor"/>
  </joint>
  <link name="4_RL_hip">
    <visual>
      <origin rpy="0 3.141592653589793 0" xyz="0 0 0"/>
      <geometry>
        <mesh filename="../meshes/hip.stl" scale="1 1 1"/>
      </geometry>
      <material name="hip_color"/>
    </visual>
    <collision>
      <origin rpy="1.5707963267948966 0 0" xyz="0 0.08 0"/>
      <geometry>
        <cylinder length="0.04" radius="0.046"/>
      </geometry>
    </collision>
    <inertial>
      <origin rpy="0 0 0" xyz="0.005657 -0.008752 -0.000102"/>
      <mass value="0.591"/>
      <inertia ixx="0.000334008405" ixy="1.0826066e-05" ixz="-1.290732e-06" iyy="0.000619101213" iyz="1.643194e-06" izz="0.00040057614"/>
    </inertial>
  </link>
  <link name="4_RL_hip_rotor">
    <!-- <collision>
      <origin rpy="0 1.5707963267948966 0" xyz="0 0 0"/>
      <geometry>
        <cylinder length="0.02" radius="0.035"/>
      </geometry>
    </collision> -->
    <inertial>
      <origin rpy="0 0 0" xyz="0.0 0.0 0.0"/>
      <mass value="0.089"/>
      <inertia ixx="0.000111842" ixy="0.0" ixz="0.0" iyy="5.9647e-05" iyz="0.0" izz="5.9647e-05"/>
    </inertial>
  </link>
  <joint name="4_RL_thigh_joint" type="revolute">
    <origin rpy="0 0 0" xyz="0 0.08 0"/>
    <parent link="4_RL_hip"/>
    <child link="4_RL_thigh"/>
    <axis xyz="0 1 0"/>
    <dynamics damping="0.0" friction="0.0"/>
    <limit effort="23.7" lower="-0.686" upper="4.501" velocity="30.1"/>
  </joint>
  <joint name="4_RL_thigh_rotor_joint" type="fixed">
    <origin rpy="0 0 0" xyz="0.0 -0.00015 0"/>
    <parent link="4_RL_hip"/>
    <child link="4_RL_thigh_rotor"/>
  </joint>
  <link name="4_RL_thigh">
    <visual>
      <origin rpy="0 0 0" xyz="0 0 0"/>
      <geometry>
        <mesh filename="../meshes/thigh.stl" scale="1 1 1"/>
      </geometry>
      <material name="thigh_color"/>
    </visual>
    <collision>
      <origin rpy="0 1.5707963267948966 0" xyz="0 0 -0.1065"/>
      <geometry>
        <box size="0.213 0.0245 0.034"/>
      </geometry>
    </collision>
    <inertial>
      <origin rpy="0 0 0" xyz="-0.003342 -0.018054 -0.033451"/>
      <mass value="0.92"/>
      <inertia ixx="0.004431760472" ixy="5.7496807e-05" ixz="-0.000218457134" iyy="0.004485671726" iyz="0.000572001265" izz="0.000740309489"/>
    </inertial>
  </link>
  <link name="4_RL_thigh_rotor">
    <!-- <collision>
      <origin rpy="1.5707963267948966 0 0" xyz="0 0 0"/>
      <geometry>
        <cylinder length="0.02" radius="0.035"/>
      </geometry>
    </collision> -->
    <inertial>
      <origin rpy="0 0 0" xyz="0.0 0.0 0.0"/>
      <mass value="0.089"/>
      <inertia ixx="5.9647e-05" ixy="0.0" ixz="0.0" iyy="0.000111842" iyz="0.0" izz="5.9647e-05"/>
    </inertial>
  </link>
  <joint name="4_RL_calf_joint" type="revolute">
    <origin rpy="0 0 0" xyz="0 0 -0.213"/>
    <parent link="4_RL_thigh"/>
    <child link="4_RL_calf"/>
    <axis xyz="0 1 0"/>
    <dynamics damping="0.0" friction="0.0"/>
    <limit effort="35.55" lower="-2.818" upper="-0.888" velocity="20.06"/>
  </joint>
  <joint name="4_RL_calf_rotor_joint" type="fixed">
    <origin rpy="0 0 0" xyz="0.0 -0.03235 0"/>
    <parent link="4_RL_thigh"/>
    <child link="4_RL_calf_rotor"/>
  </joint>
  <link name="4_RL_calf">
    <visual>
      <origin rpy="0 0 0" xyz="0 0 0"/>
      <geometry>
        <mesh filename="../meshes/calf.stl" scale="1 1 1"/>
      </geometry>
      <material name="calf_color"/>
    </visual>
    <collision>
      <origin rpy="0 1.5707963267948966 0" xyz="0 0 -0.1065"/>
      <geometry>
        <box size="0.213 0.016 0.016"/>
      </geometry>
    </collision>
    <inertial>
      <origin rpy="0 0 0" xyz="0.006197 0.001408 -0.116695"/>
      <mass value="0.135862"/>
      <inertia ixx="0.001088793059" ixy="-2.55679e-07" ixz="7.117814e-06" iyy="0.001100428748" iyz="2.077264e-06" izz="2.4787446e-05"/>
    </inertial>
  </link>
  <link name="4_RL_calf_rotor">
    <!-- <collision>
      <origin rpy="1.5707963267948966 0 0" xyz="0 0 0"/>
      <geometry>
        <cylinder length="0.02" radius="0.035"/>
      </geometry>
    </collision> -->
    <inertial>
      <origin rpy="0 0 0" xyz="0.0 0.0 0.0"/>
      <mass value="0.089"/>
      <inertia ixx="5.9647e-05" ixy="0.0" ixz="0.0" iyy="0.000111842" iyz="0.0" izz="5.9647e-05"/>
    </inertial>
  </link>
  <joint name="4_RL_foot_fixed" type="fixed" dont_collapse="true">
    <origin rpy="0 0 0" xyz="0 0 -0.213"/>
    <parent link="4_RL_calf"/>
    <child link="4_RL_foot"/>
  </joint>
  <link name="4_RL_foot">
    <visual>
      <origin rpy="0 0 0" xyz="0 0 0"/>
      <geometry>
        <sphere radius="0.01"/>
      </geometry>
      <material name="foot_color"/>
    </visual>
    <collision>
      <origin rpy="0 0 0" xyz="0 0 0"/>
      <geometry>
        <sphere radius="0.02"/>
      </geometry>
    </collision>
    <inertial>
      <mass value="0.06"/>
      <inertia ixx="9.600000000000001e-06" ixy="0.0" ixz="0.0" iyy="9.600000000000001e-06" iyz="0.0" izz="9.600000000000001e-06"/>
    </inertial>
  </link>
</robot>
